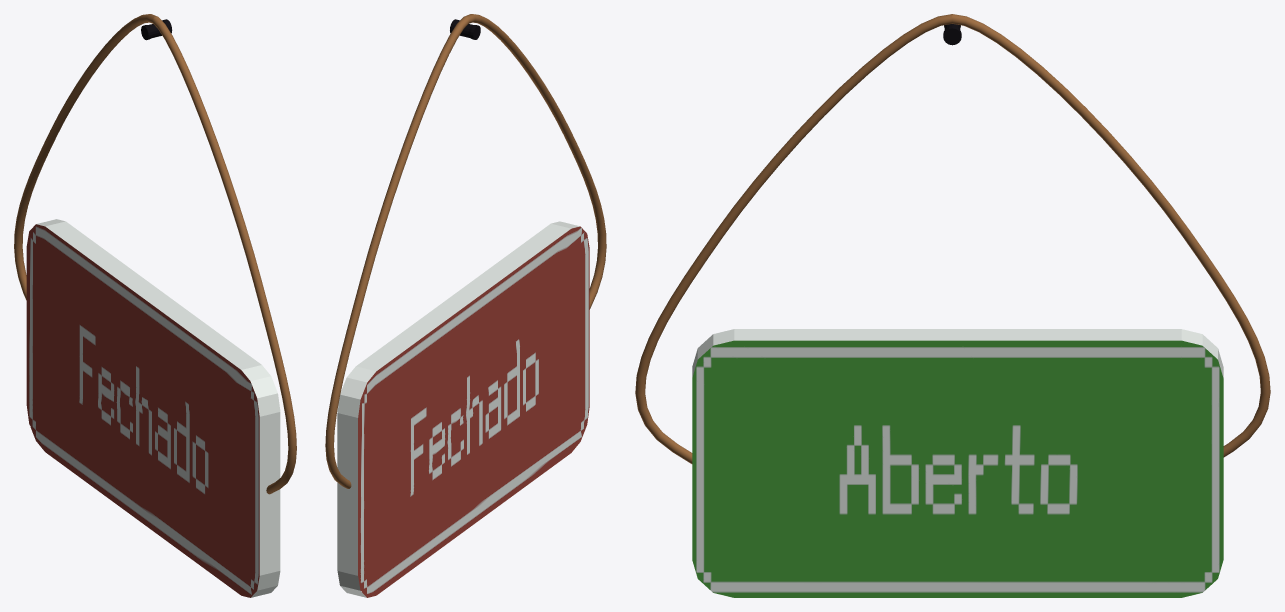
File: placadeabertoefechado.fbx
The picture shows the model from 3 angles, left to right: view 1: azimuth 30°, elevation 25°; view 2: azimuth 150°, elevation 25°; view 3: azimuth 270°, elevation 25°; orthographic projection. The views are drawn at different scales.
Parts seen in each view (by area): view 1: Cube, BézierCurve; view 2: Cube, BézierCurve; view 3: Cube, BézierCurve.
Boxes of the visible parts, x1,y1,x2,y2 form: Cube: (26, 219, 280, 597); BézierCurve: (14, 14, 296, 494); Cube: (337, 221, 589, 597); BézierCurve: (325, 14, 606, 488); Cube: (692, 329, 1223, 597); BézierCurve: (635, 14, 1270, 463).
Size of the model in its own units: 24.88 by 516 by 514.
Materials: 2 (2 with a texture image).
